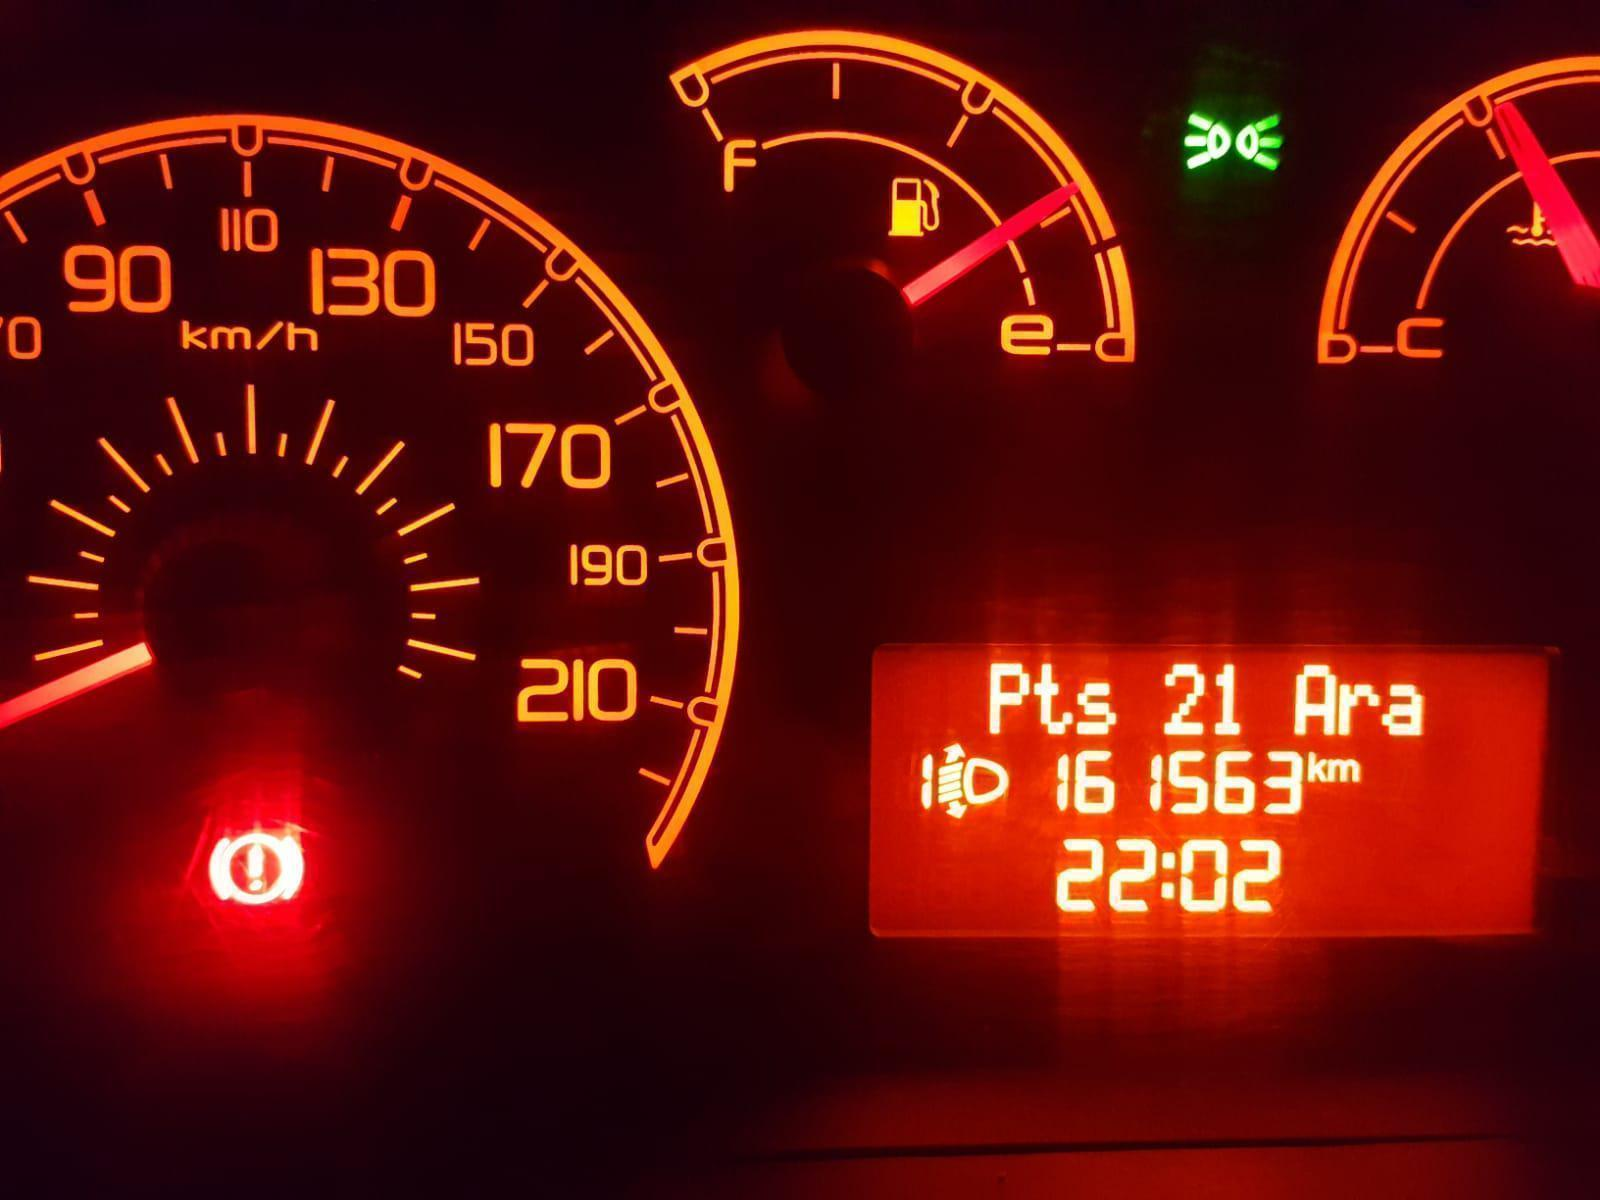0: (1180, 833, 1231, 921)
1: (1211, 661, 1247, 749), (1143, 742, 1167, 819), (916, 741, 937, 824), (1051, 746, 1070, 823)
2: (1232, 834, 1286, 914), (1053, 832, 1101, 918), (1160, 655, 1206, 745), (1110, 833, 1153, 916)
3: (1262, 744, 1306, 819)
5: (1168, 747, 1211, 821)
6: (1073, 746, 1123, 816), (1214, 745, 1260, 818)
X: (984, 655, 1033, 737), (1032, 657, 1077, 740), (1293, 658, 1335, 737), (1383, 678, 1427, 747), (1077, 677, 1120, 737), (1337, 676, 1377, 736), (1327, 750, 1364, 792), (1155, 842, 1178, 908), (1303, 747, 1329, 787)
odometer: (859, 629, 1558, 950)
